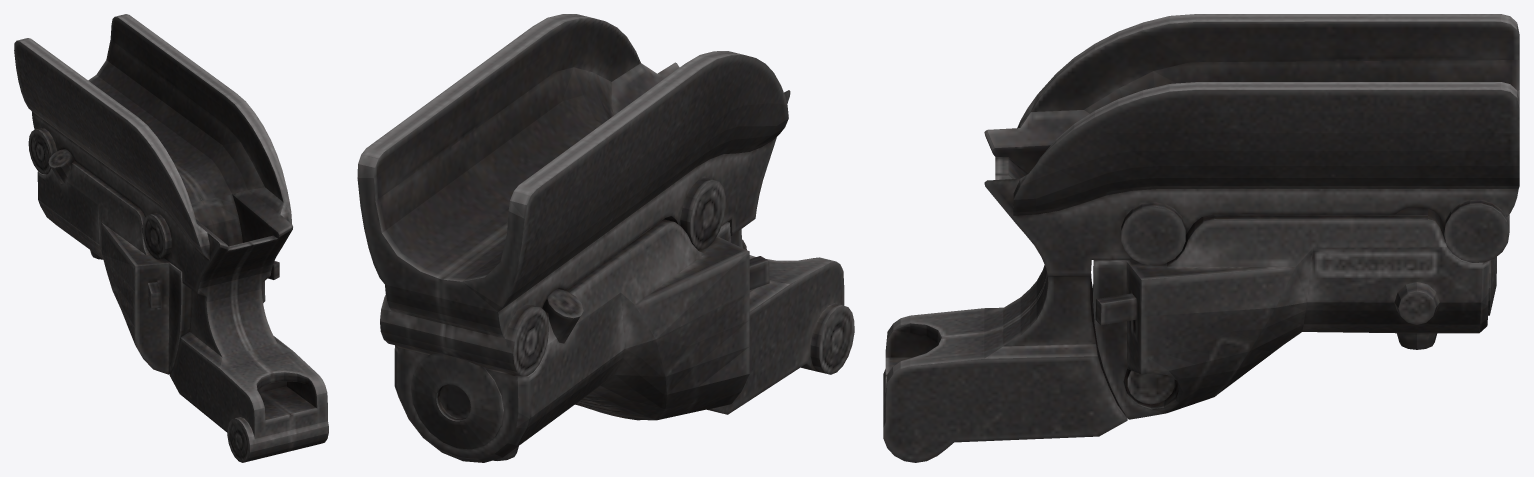
3 renders of one model, left to right at view 1: azimuth 30°, elevation 25°; view 2: azimuth 150°, elevation 25°; view 3: azimuth 270°, elevation 25°, orthographic. The views are drawn at different scales.
Parts seen in each view (by area): view 1: TW_5c079ed60db834001a66b372_PZ_Import; view 2: TW_5c079ed60db834001a66b372_PZ_Import; view 3: TW_5c079ed60db834001a66b372_PZ_Import.
Part boxes in pixels (<box>): TW_5c079ed60db834001a66b372_PZ_Import: <box>14,14,328,462</box>; TW_5c079ed60db834001a66b372_PZ_Import: <box>357,14,854,462</box>; TW_5c079ed60db834001a66b372_PZ_Import: <box>883,14,1519,462</box>.
Bounding box in the file's own units: 0.0143 × 0.0427 × 0.0285.
1 material, 1 textured.
